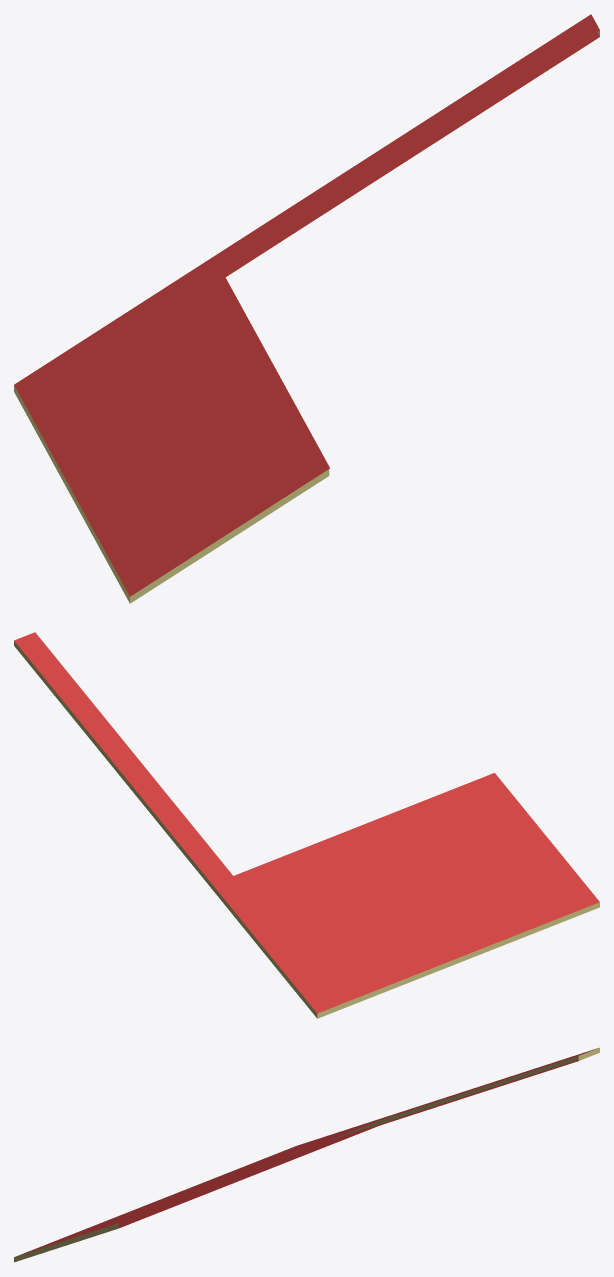
3 views of the same model, one above another, from view 1: azimuth 30°, elevation 25°; view 2: azimuth 150°, elevation 25°; view 3: azimuth 330°, elevation 25° (orthographic). The views are drawn at different scales.
Bounding box in the file's own units: 9.27 × 7.14 × 4.58.
